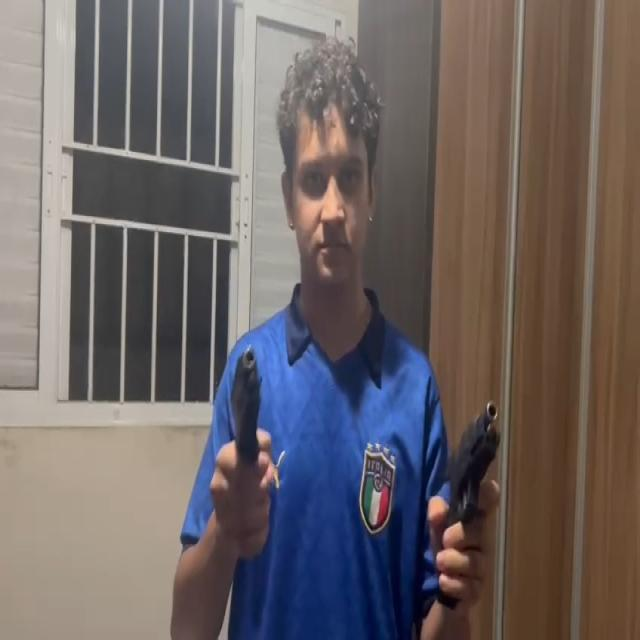gun: (439, 403, 503, 599), (227, 346, 265, 474)
